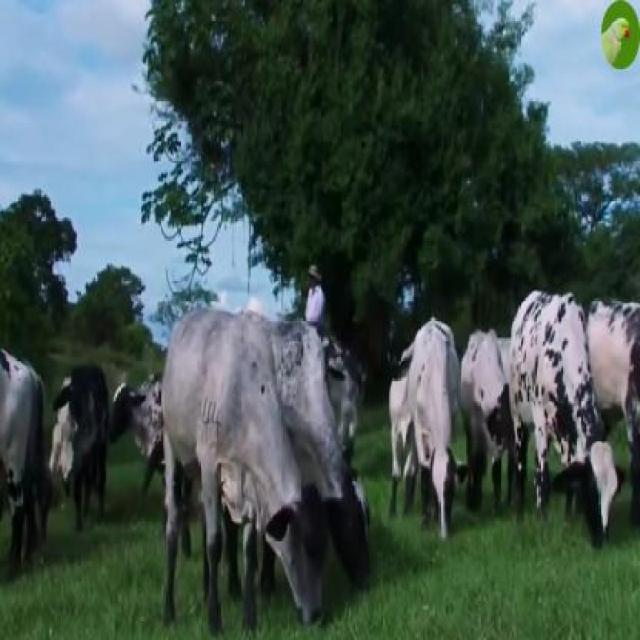Cow: (162, 310, 346, 632), (511, 292, 618, 550), (409, 318, 465, 542)
